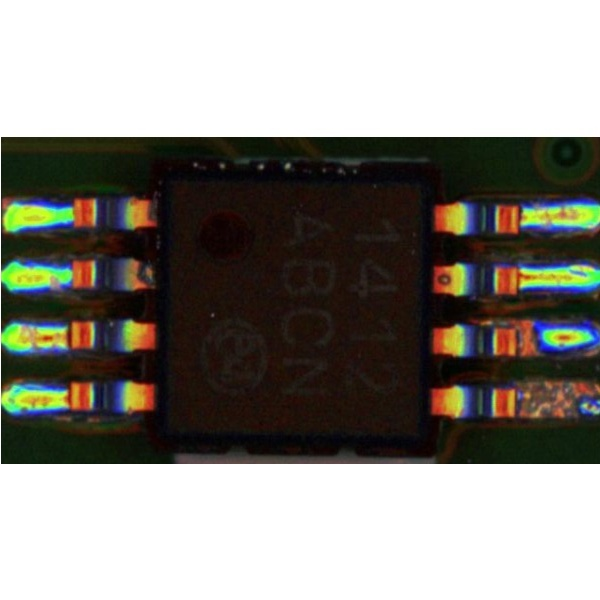Bad_podu: (506, 270, 534, 285), (59, 326, 77, 348), (511, 208, 529, 227), (61, 389, 79, 408)
